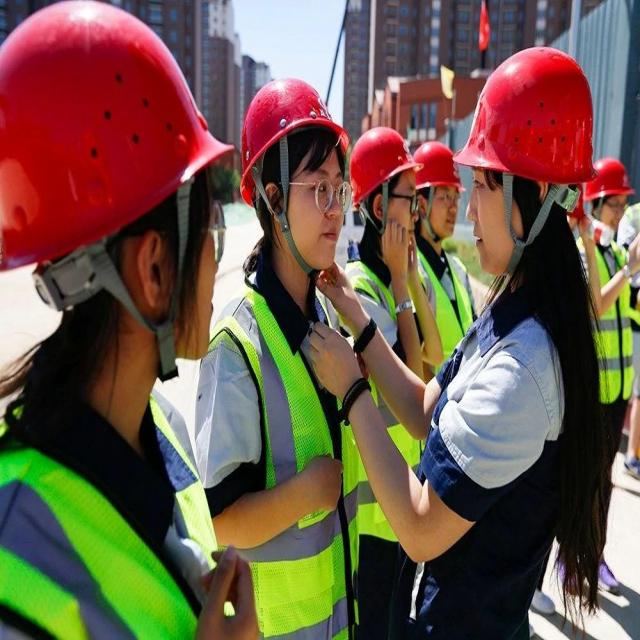Reflective-Jacket: (0, 370, 216, 640), (210, 277, 359, 637), (348, 246, 477, 544)
Safety-Helmet: (1, 5, 235, 274), (455, 41, 600, 182), (236, 68, 351, 193), (347, 122, 420, 204), (411, 140, 464, 194), (584, 154, 636, 202)
